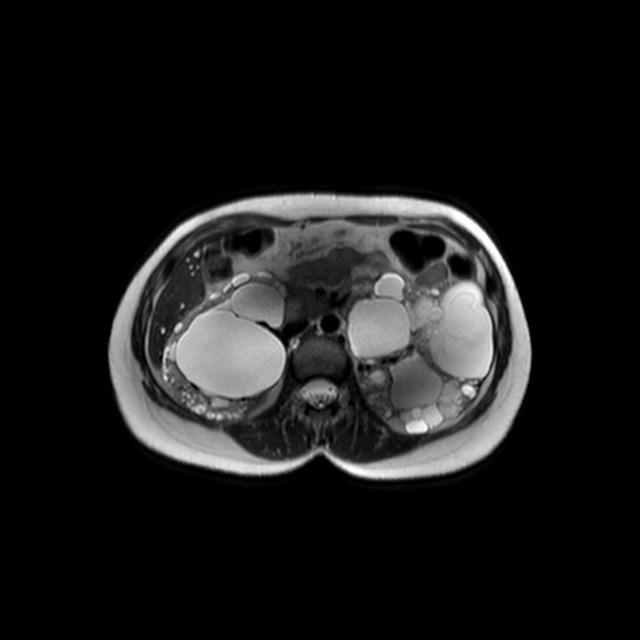sag: (160, 267, 290, 425)
sol: (346, 270, 495, 434)
